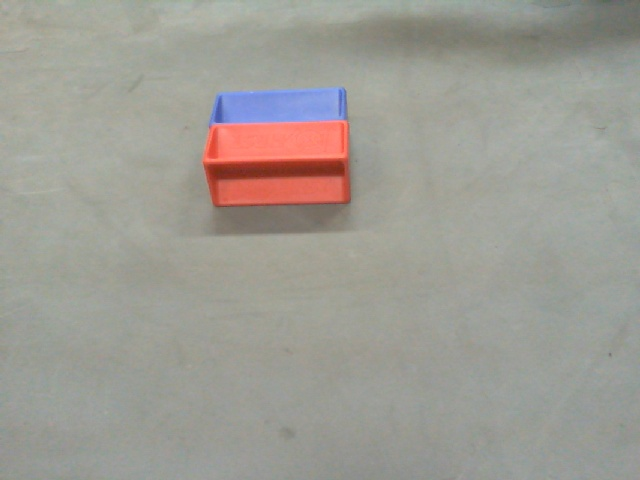BlueSample: (210, 84, 351, 124)
RedSample: (198, 116, 354, 208)
